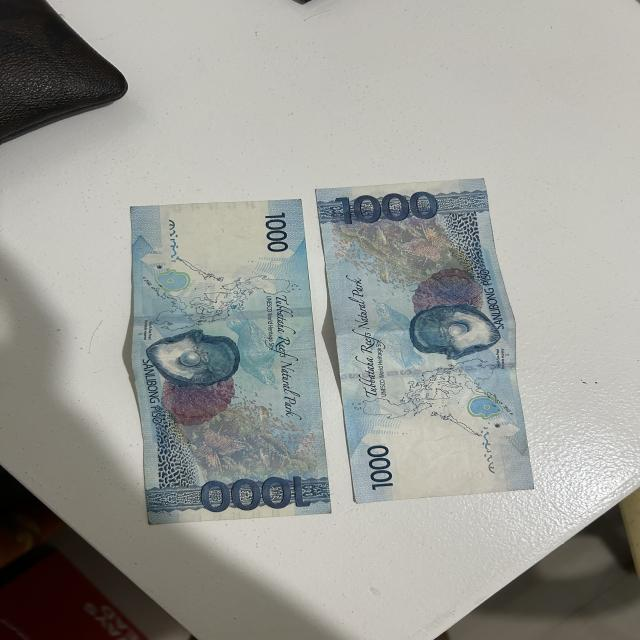1000_pearl: (406, 306, 502, 371), (146, 328, 243, 383)
1000_pearl_watermark: (152, 266, 188, 294), (462, 396, 498, 420)
